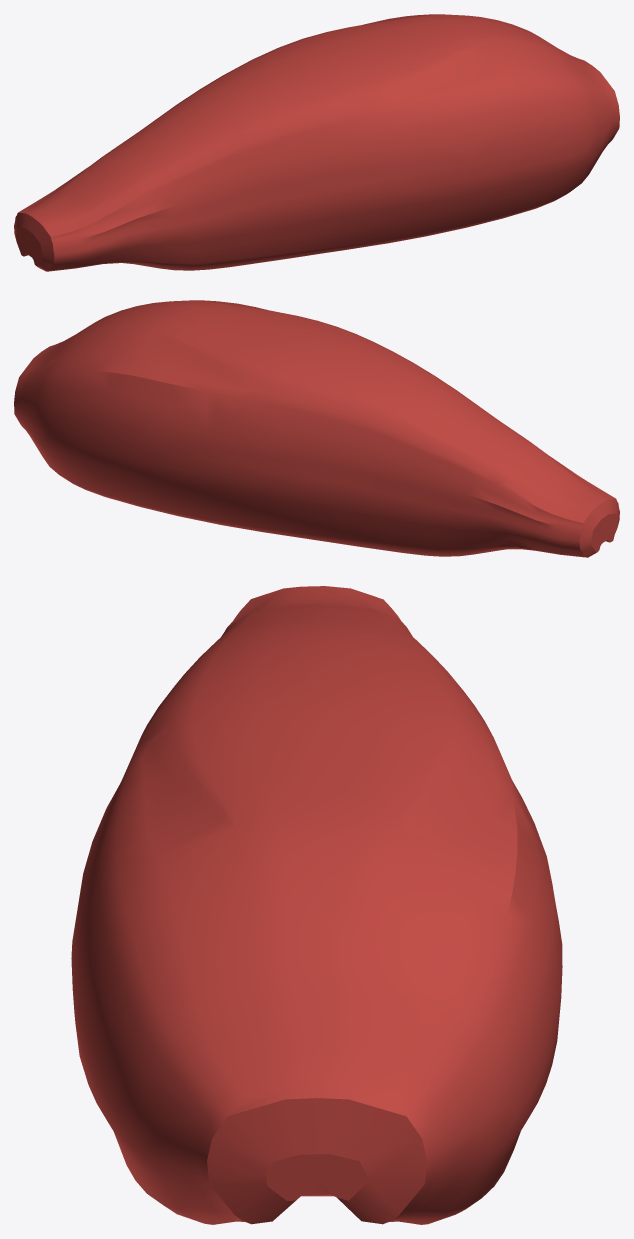
Rendered from cruiser_3_lod2.glb.
3 views of the same model, one above another, from view 1: azimuth 30°, elevation 25°; view 2: azimuth 150°, elevation 25°; view 3: azimuth 270°, elevation 25° (orthographic). The views are drawn at different scales.
Parts seen in each view (by area): view 1: cruiser_3_lod2; view 2: cruiser_3_lod2; view 3: cruiser_3_lod2.
Boxes of the visible parts, <box> form: cruiser_3_lod2: <box>14,14,619,271</box>; cruiser_3_lod2: <box>14,300,619,557</box>; cruiser_3_lod2: <box>71,586,562,1224</box>.
Size of the model in its own units: 1.07 by 0.2987 by 0.3985.
